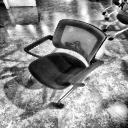chair_success: (22, 18, 109, 110)
